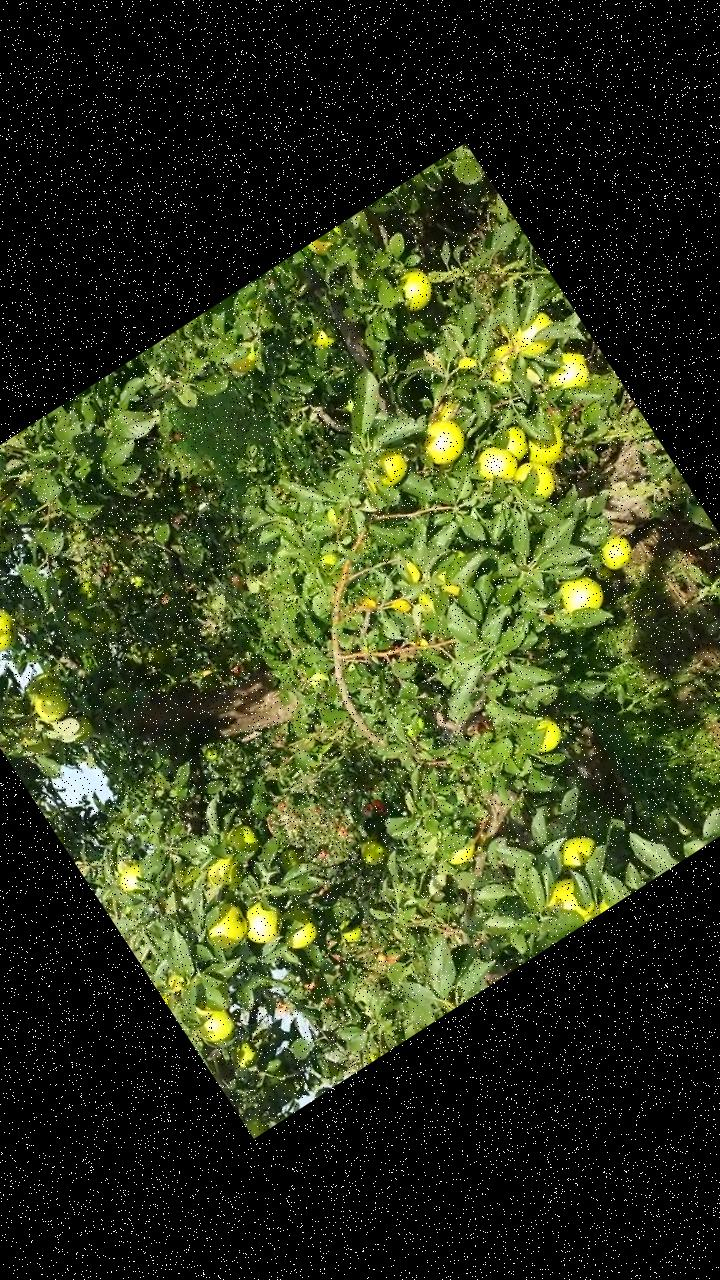Apple: (540, 343, 600, 401), (538, 873, 594, 933), (413, 411, 470, 469), (197, 894, 253, 952), (552, 568, 608, 622), (506, 310, 562, 364), (468, 437, 523, 491), (509, 454, 562, 509), (234, 897, 286, 949), (476, 339, 528, 391), (519, 422, 571, 470), (199, 850, 248, 898), (553, 828, 602, 876), (389, 262, 436, 312), (28, 684, 72, 729), (194, 1007, 238, 1050), (373, 444, 414, 488), (592, 532, 634, 574), (524, 715, 564, 755), (496, 422, 534, 462), (280, 916, 322, 952), (0, 600, 24, 660), (223, 821, 259, 859), (444, 838, 482, 868), (113, 864, 147, 896), (335, 914, 365, 946), (357, 836, 387, 867), (227, 350, 258, 380), (229, 1039, 257, 1069), (308, 325, 336, 353), (70, 712, 96, 742), (75, 580, 100, 607), (306, 234, 334, 258), (64, 606, 89, 632), (244, 1112, 268, 1138), (592, 896, 608, 913)
